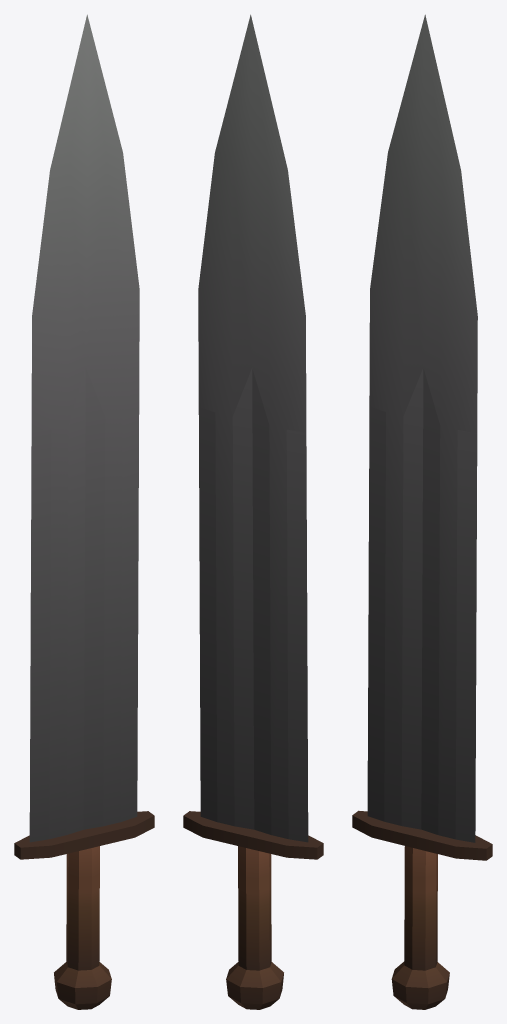
Rendered from Sword_1.fbx.
The picture shows the model from 3 angles, left to right: view 1: azimuth 30°, elevation 25°; view 2: azimuth 150°, elevation 25°; view 3: azimuth 330°, elevation 25°; orthographic projection.
Parts seen in each view (by area): view 1: Sword_1; view 2: Sword_1; view 3: Sword_1.
Boxes of the visible parts, x1,y1,x2,y2 form: Sword_1: (14, 14, 154, 1009); Sword_1: (183, 14, 323, 1009); Sword_1: (352, 14, 492, 1009).
Size of the model in its own units: 13.53 by 95.25 by 5.26.
